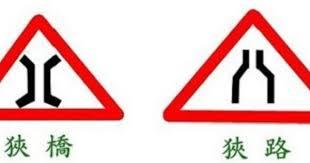narrow_road: (161, 6, 309, 122)
